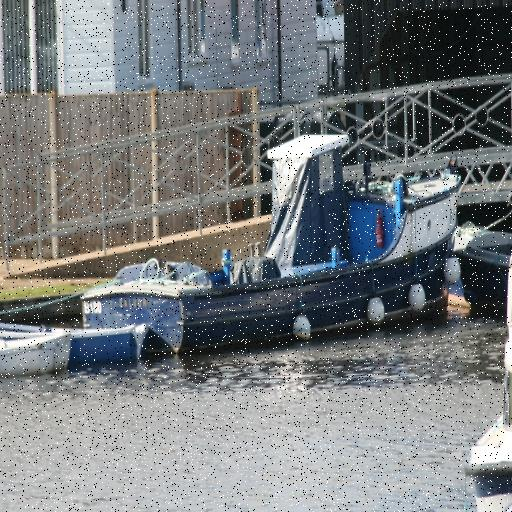tugboat: (78, 131, 465, 364)
